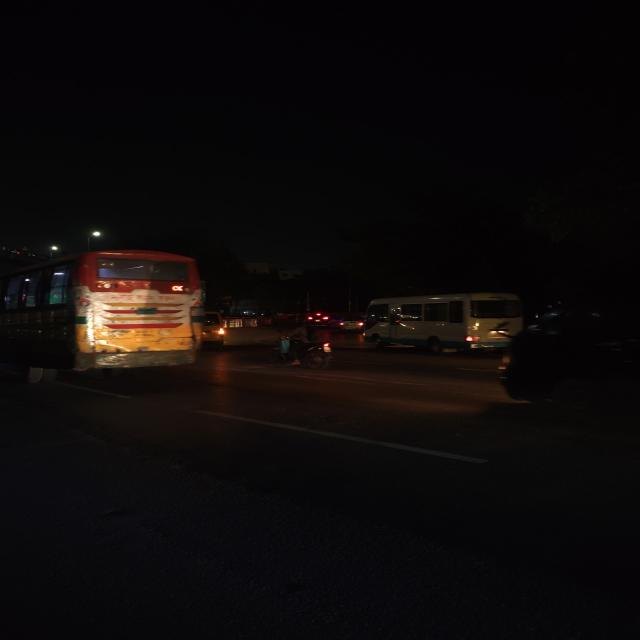bus: (0, 247, 212, 374), (362, 290, 528, 358)
car: (200, 308, 231, 347)
motorcycle: (269, 317, 338, 371)
